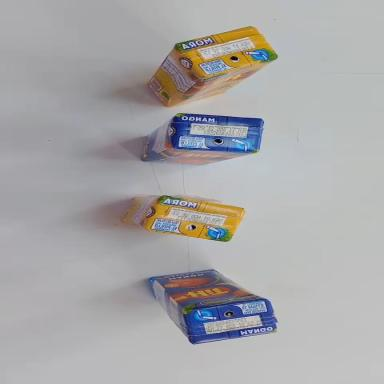HIT-MANGO: (149, 262, 279, 349), (141, 111, 264, 168)
HIT-MORA: (139, 18, 283, 113), (121, 185, 244, 248)
cara_F: (162, 56, 283, 111), (152, 262, 269, 315), (142, 146, 258, 168)
